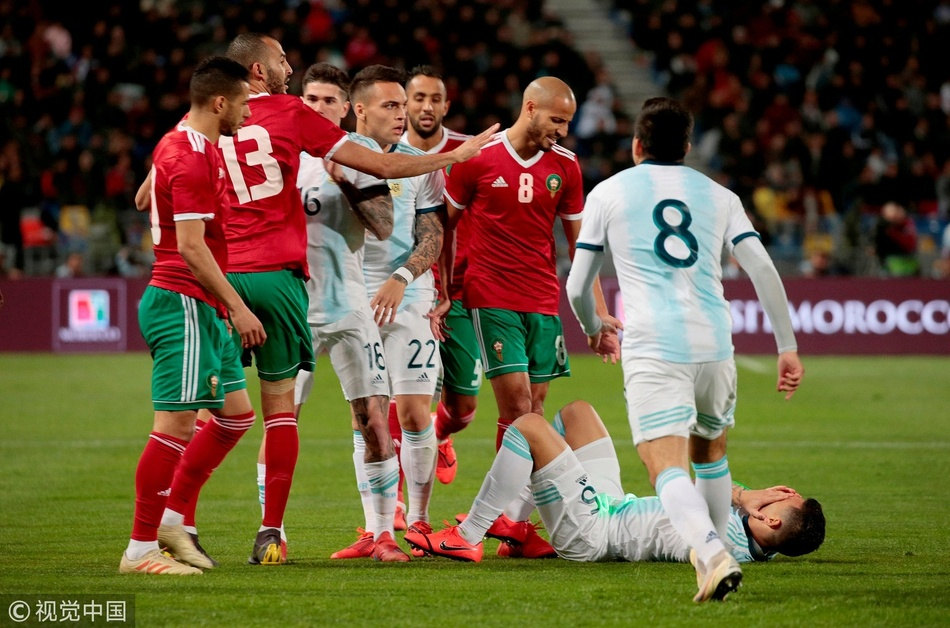falling: (408, 394, 826, 585)
